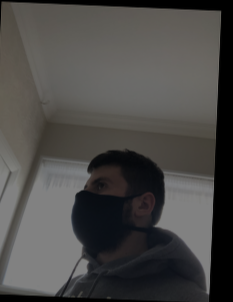with_mask: (71, 174, 129, 251)
